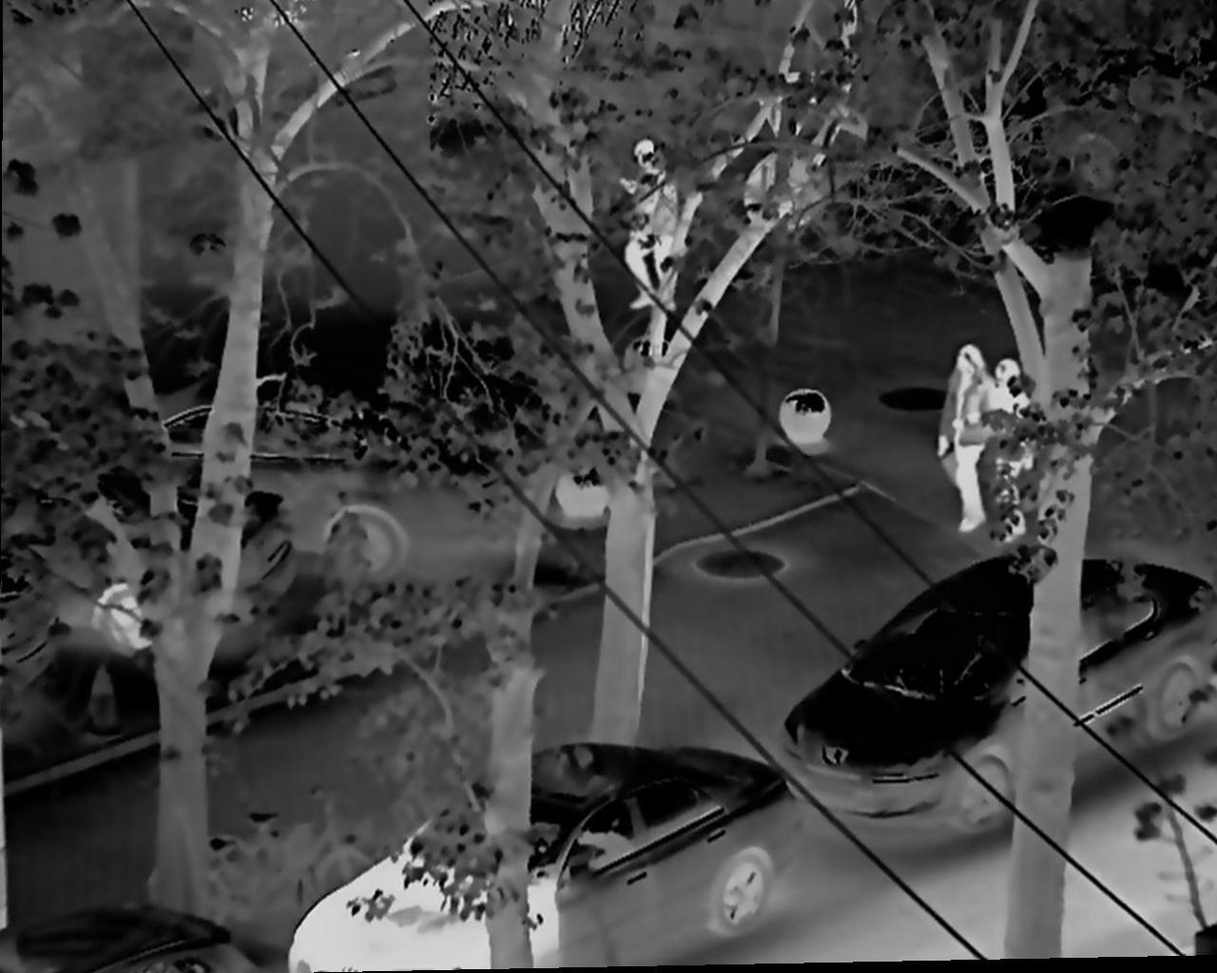person: (936, 344, 998, 532), (625, 181, 679, 315)
